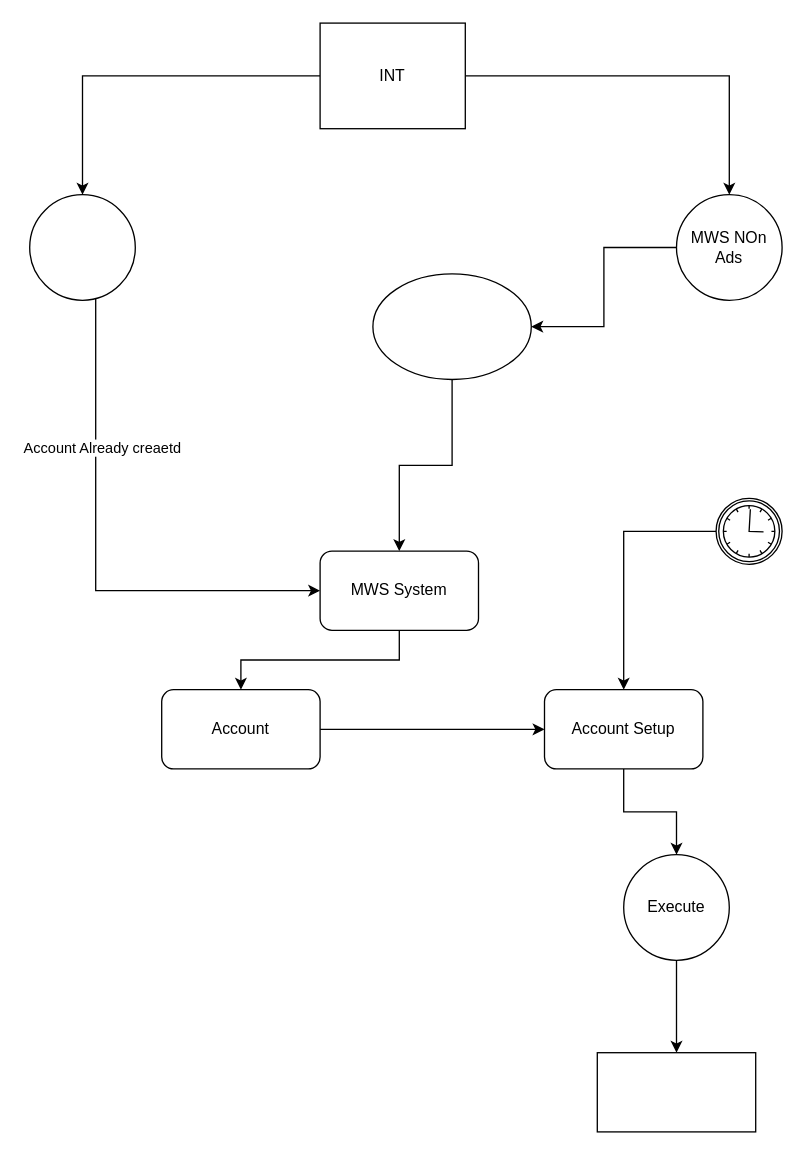
Image size: 805x1155. Some labels were removed from this diagram. The shapes that lost their labels are listed below. From the top down, each one's box as (x1, y1, x2, y2) in pixels, then its label:
(28, 193, 135, 300): ads
(372, 273, 531, 380): Create Account
(596, 1051, 756, 1132): Call Report download
